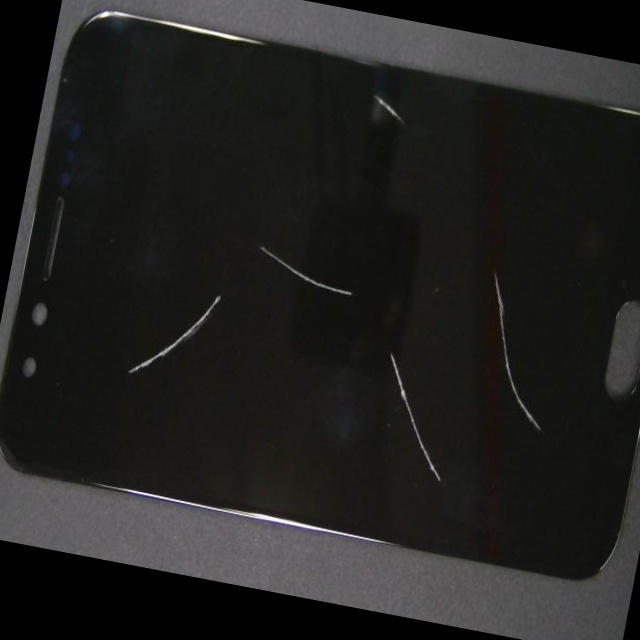scratch: (182, 231, 640, 640), (232, 214, 640, 640), (122, 79, 313, 491), (228, 156, 510, 431)
